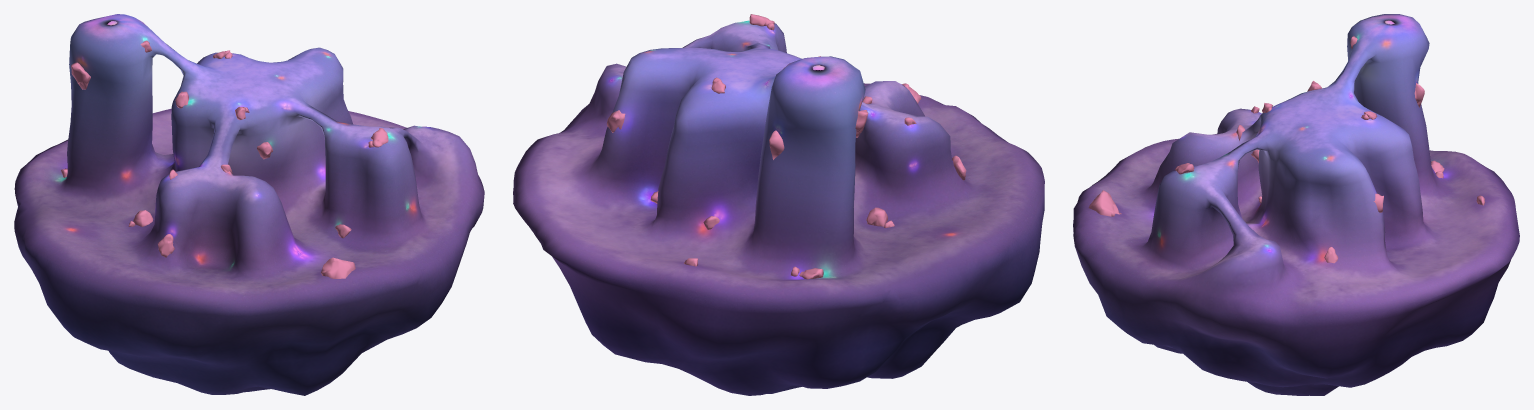
File: crystalverse.glb
The picture shows the model from 3 angles, left to right: view 1: azimuth 30°, elevation 25°; view 2: azimuth 150°, elevation 25°; view 3: azimuth 270°, elevation 25°; orthographic projection. The views are drawn at different scales.
Visible parts, largest first — view 1: map, rocks-F; view 2: map, rocks-F; view 3: map, rocks-F.
Boxes of the visible parts, left/top/right/bottom form: map: left=14, top=14, right=484, bottom=395; rocks-F: left=61, top=40, right=388, bottom=278; map: left=513, top=20, right=1044, bottom=395; rocks-F: left=606, top=14, right=966, bottom=279; map: left=1073, top=14, right=1519, bottom=395; rocks-F: left=1088, top=36, right=1485, bottom=263.
Size of the model in its own units: 27.33 by 21.56 by 26.74.
2 materials, 1 textured.
